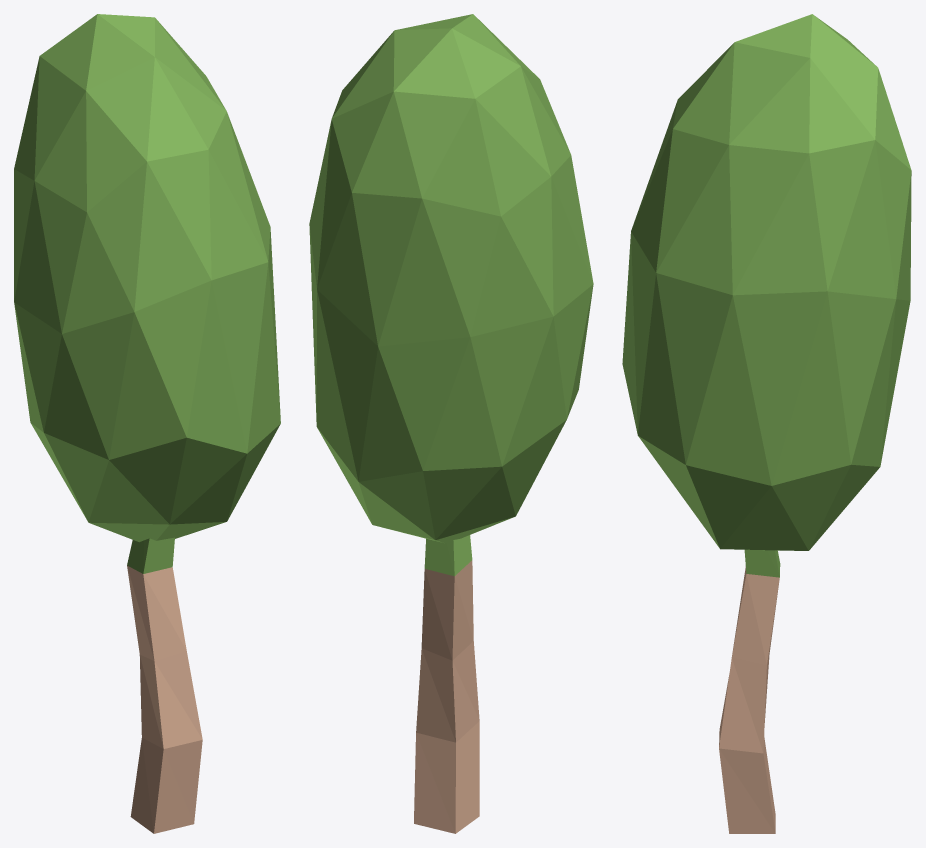
Rendered from Tree_4_colored_even_darker_leaves.glb.
3 views of the same model, side by side, from view 1: azimuth 30°, elevation 25°; view 2: azimuth 150°, elevation 25°; view 3: azimuth 270°, elevation 25° (orthographic). The views are drawn at different scales.
Parts seen in each view (by area): view 1: Leaves, Trunk; view 2: Leaves, Trunk; view 3: Leaves, Trunk.
Boxes of the visible parts, bbox=[...] form: Leaves: bbox=[14, 14, 280, 573]; Trunk: bbox=[127, 565, 202, 833]; Leaves: bbox=[309, 14, 593, 576]; Trunk: bbox=[414, 560, 479, 833]; Leaves: bbox=[622, 14, 911, 577]; Trunk: bbox=[719, 566, 779, 833].
Size of the model in its own units: 2.13 by 7.2 by 2.38.
